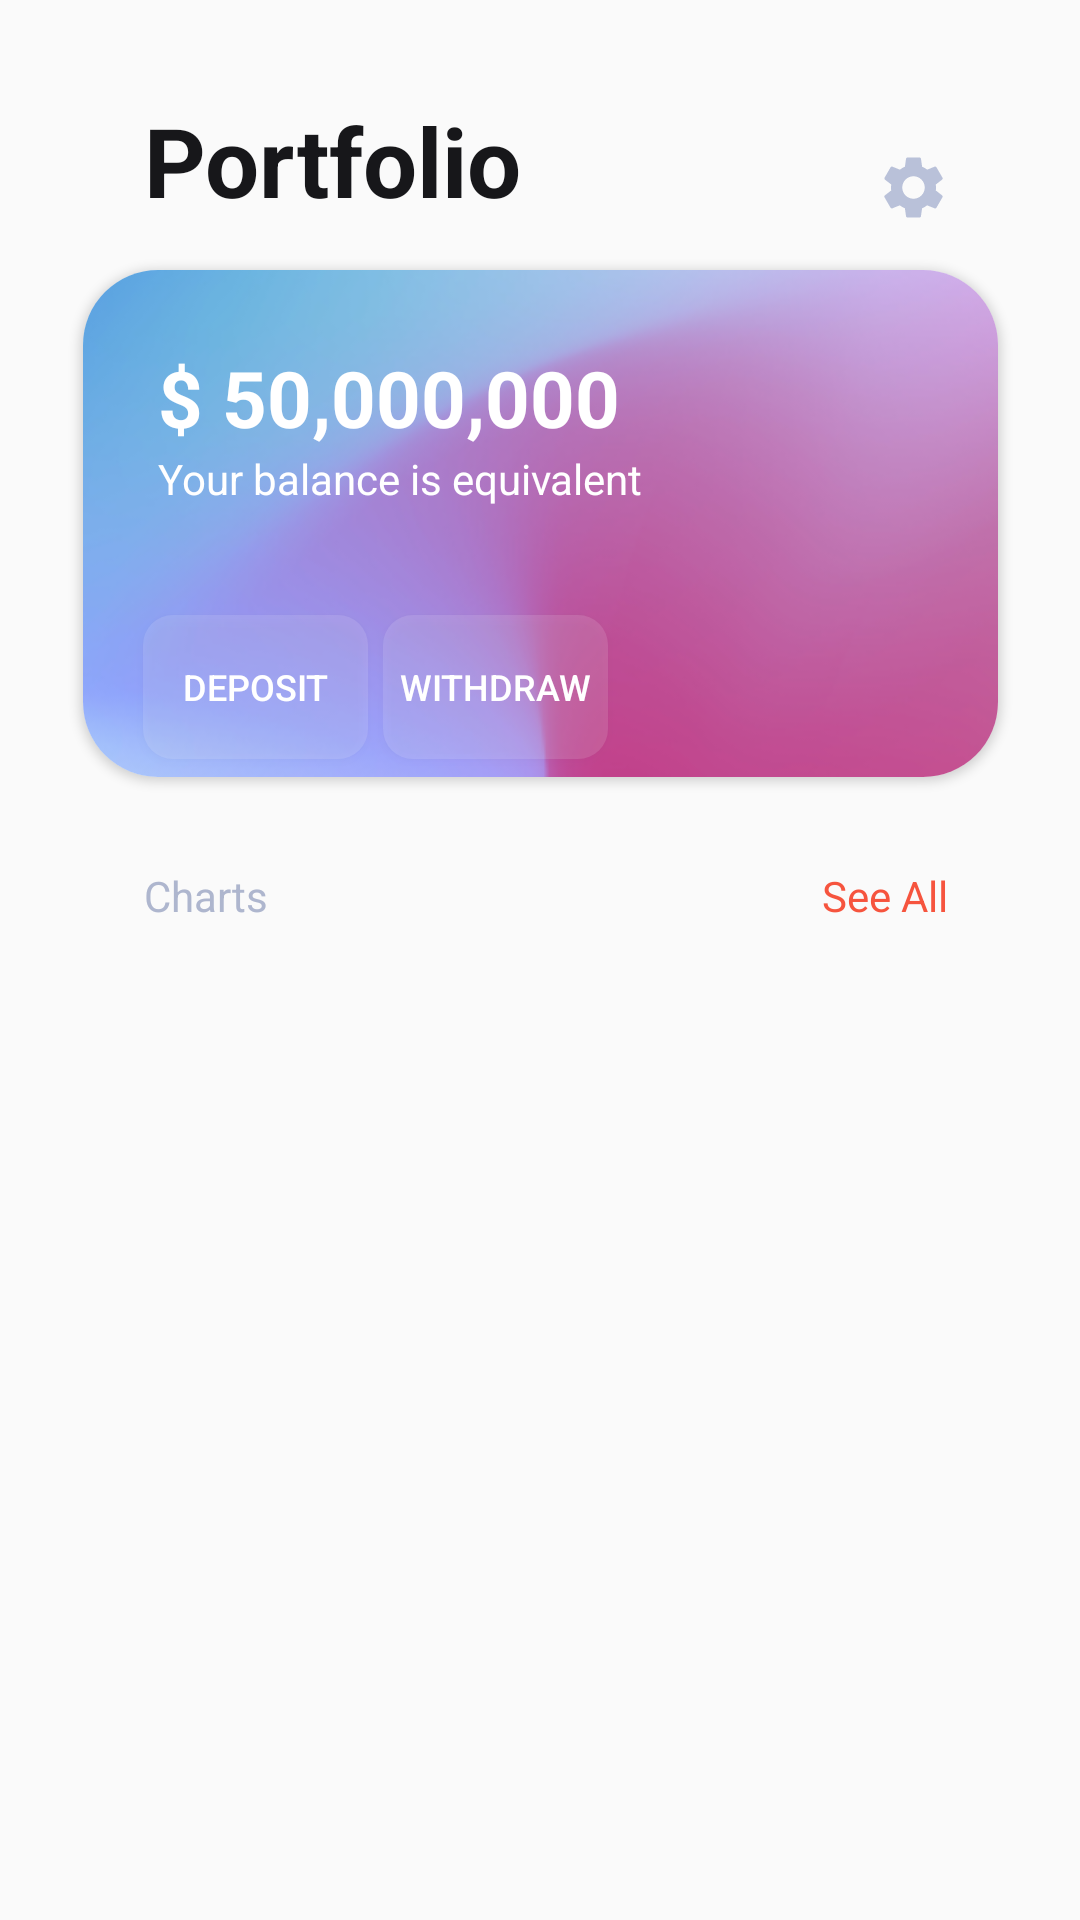

Icon bounding boxes for this 1080*1920 phone screenshot, format box(x1, y1, x2, y2):
settings: box(884, 157, 943, 218)
